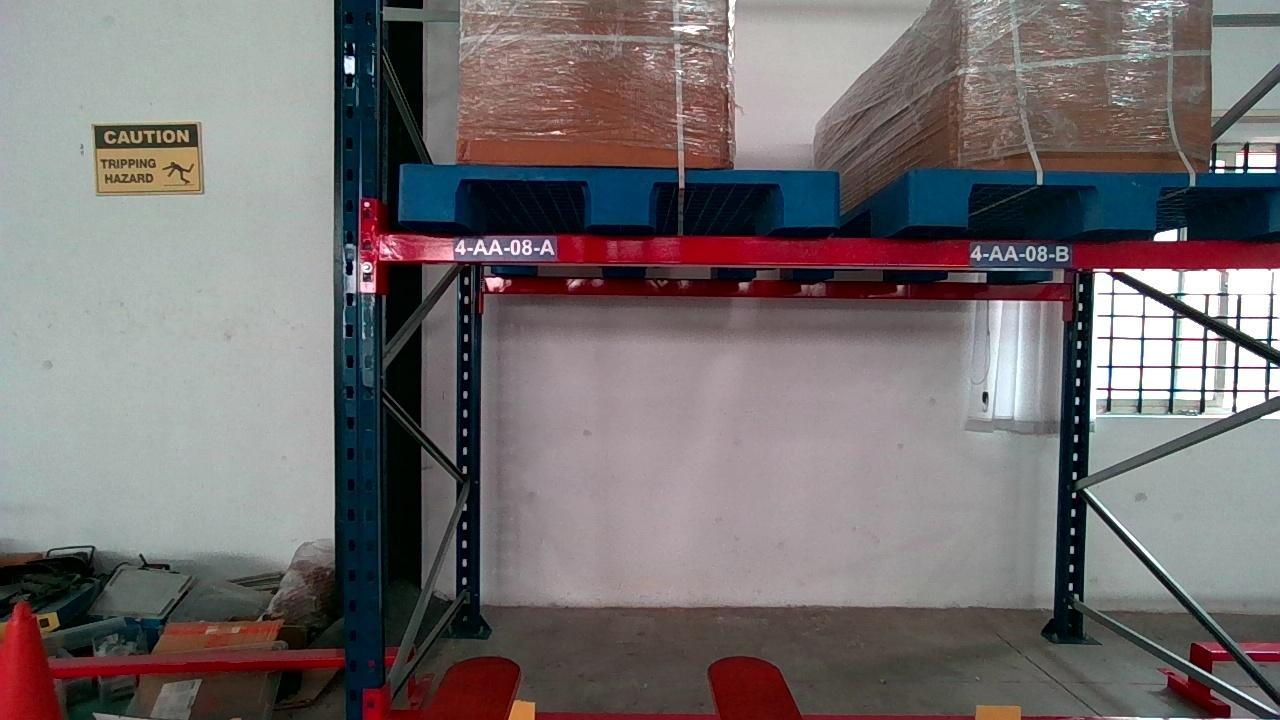h_rack: (381, 233, 1279, 265)
small_pallet: (393, 168, 840, 229), (912, 166, 1275, 238)
